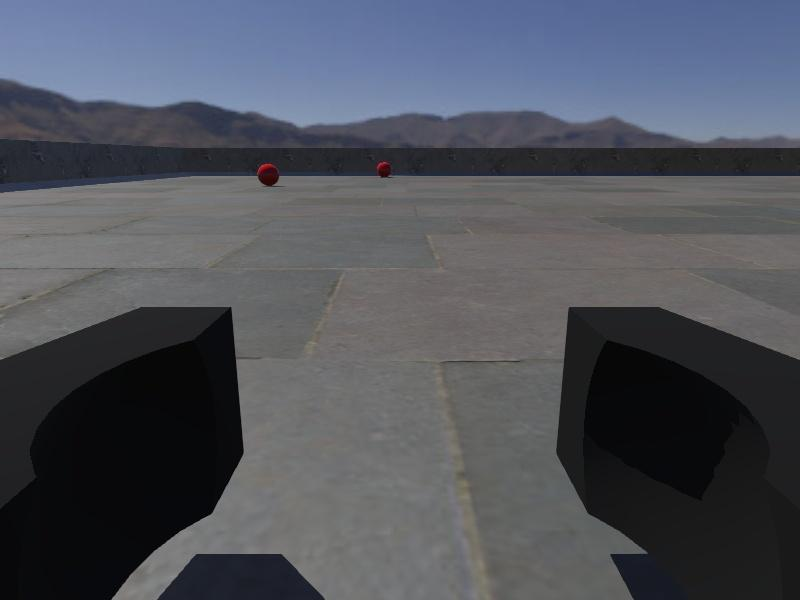red ball: (256, 162, 280, 188), (375, 161, 393, 178)
